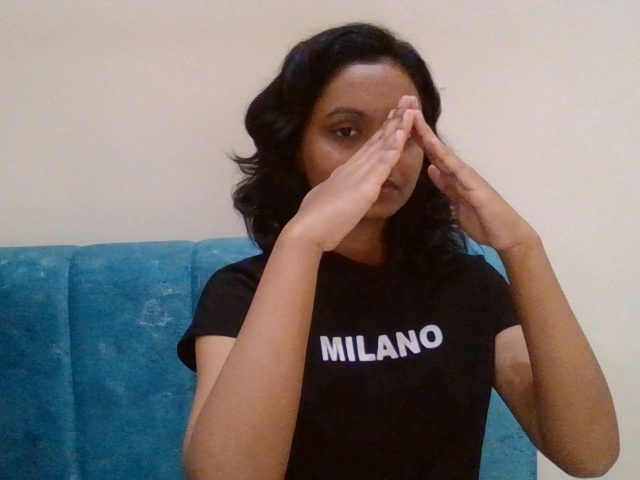House: (252, 87, 570, 338)
